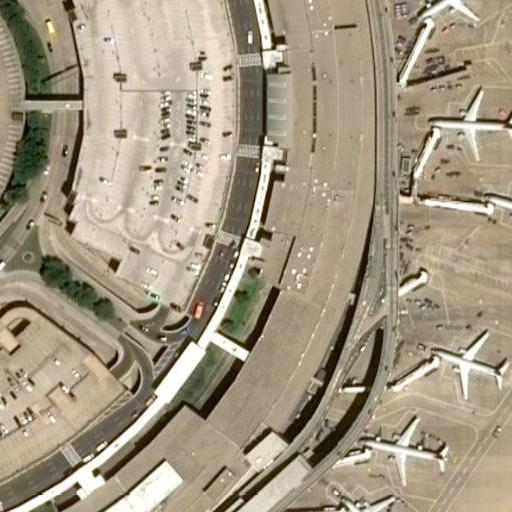Aircraft: (434, 84, 512, 162), (364, 411, 449, 476), (430, 328, 510, 388), (485, 174, 512, 243), (333, 490, 399, 512)
